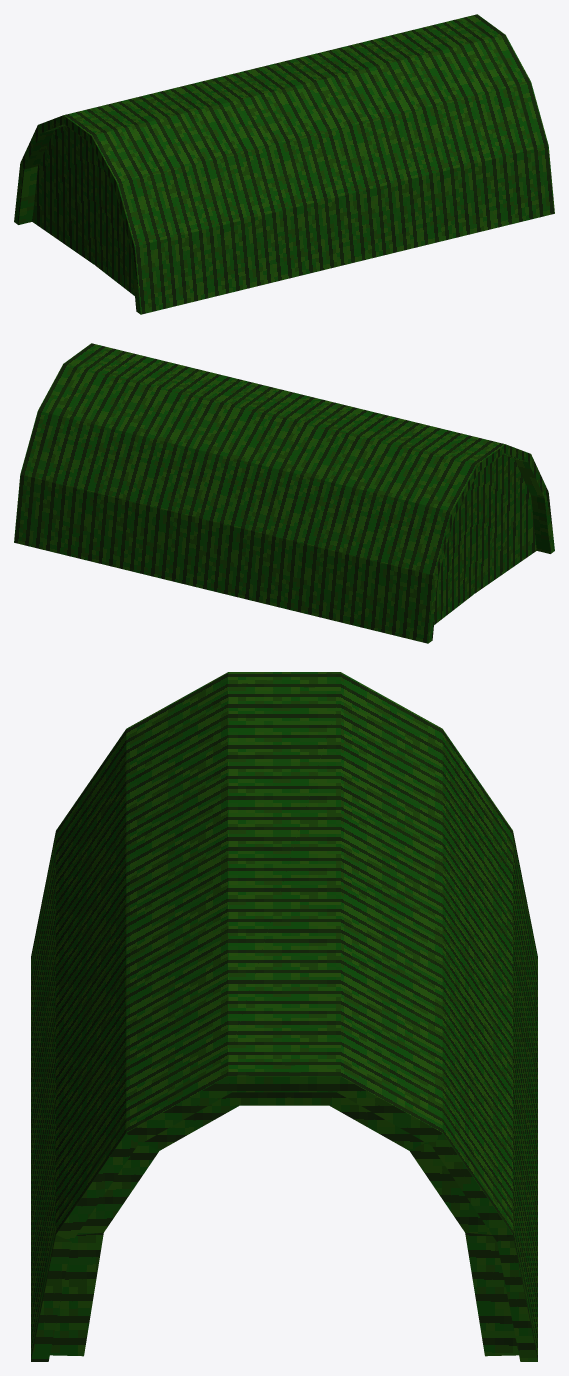
File: BGN_SMALL HANGAR.fbx
3 views of the same model, one above another, from view 1: azimuth 30°, elevation 25°; view 2: azimuth 150°, elevation 25°; view 3: azimuth 270°, elevation 25° (orthographic). The views are drawn at different scales.
Parts seen in each view (by area): view 1: BGN_SMALL_HANGAR; view 2: BGN_SMALL_HANGAR; view 3: BGN_SMALL_HANGAR.
Boxes of the visible parts, box(x1,y1,x2,y2) form: BGN_SMALL_HANGAR: box(14, 14, 554, 314); BGN_SMALL_HANGAR: box(14, 343, 554, 643); BGN_SMALL_HANGAR: box(31, 672, 537, 1361).
Size of the model in its own units: 1130 by 375 by 599.
